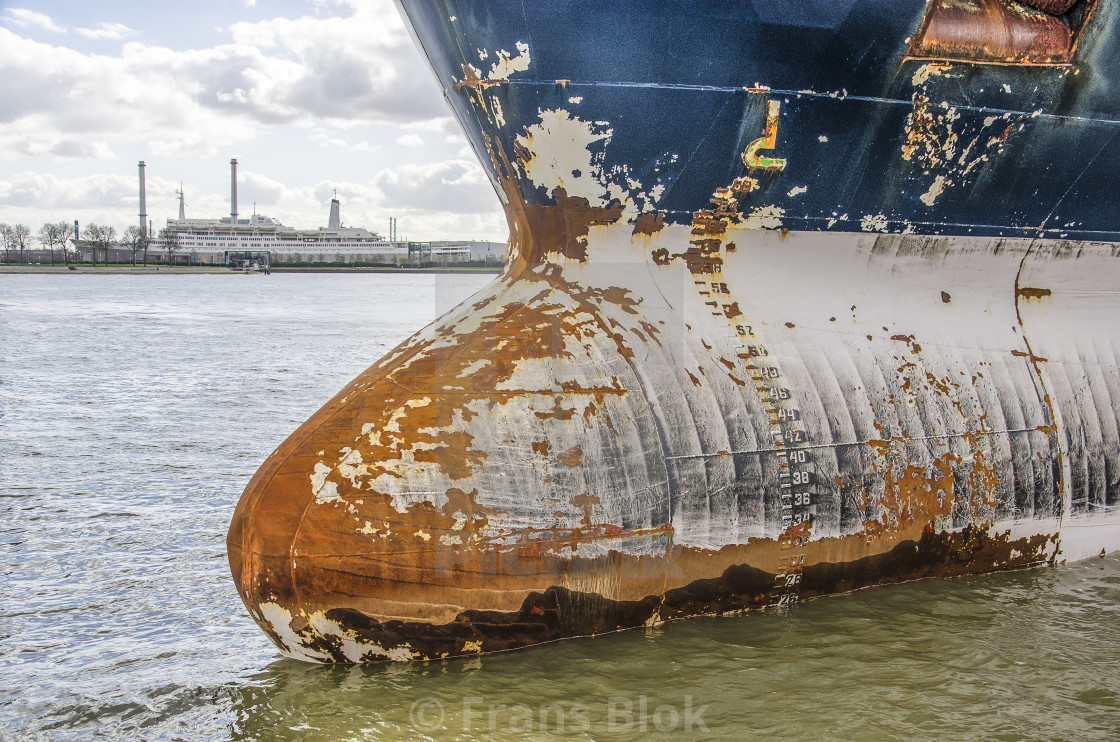rust: (215, 358, 490, 656), (914, 1, 1084, 70)
